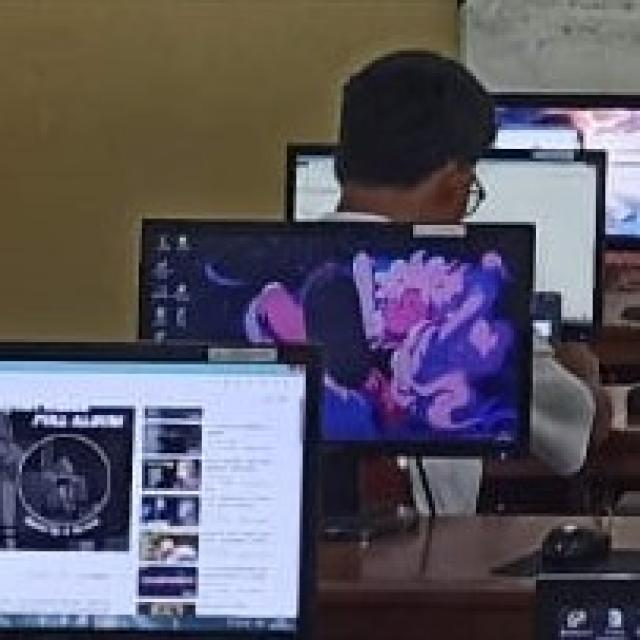onscreen: (4, 357, 300, 632), (152, 227, 515, 442), (473, 157, 603, 329), (503, 110, 640, 234), (295, 152, 337, 215)
